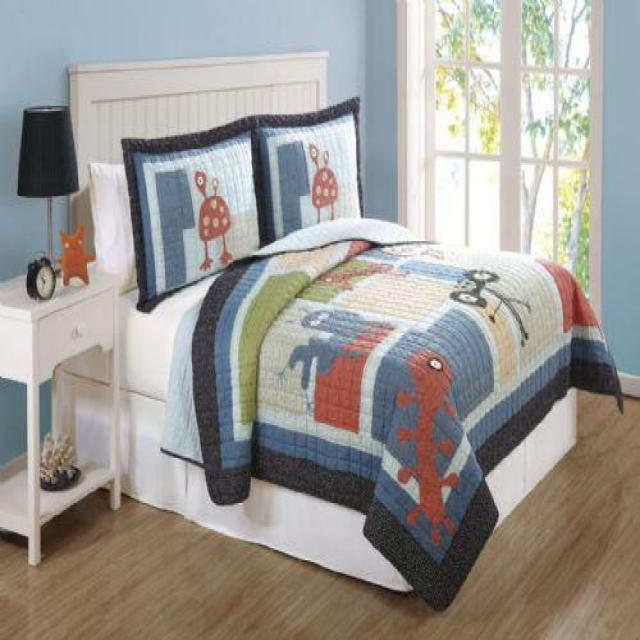bed: (64, 49, 623, 610)
